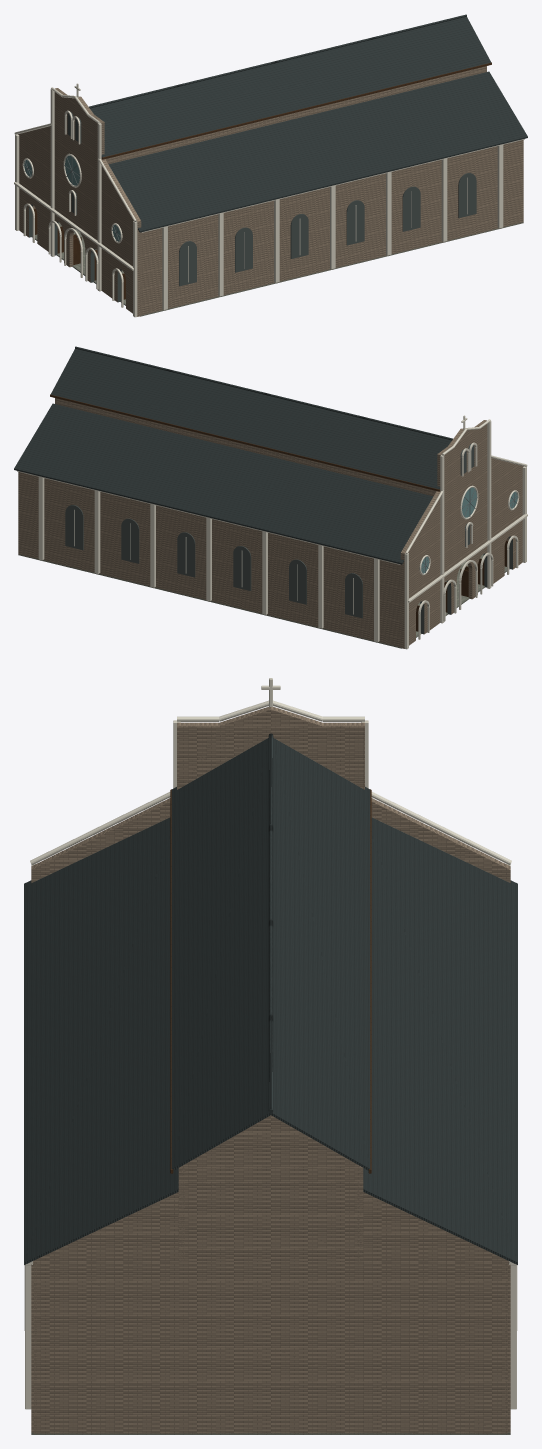
The model's file is landmark.glb.
The picture shows the model from 3 angles, top to bottom: view 1: azimuth 30°, elevation 25°; view 2: azimuth 150°, elevation 25°; view 3: azimuth 270°, elevation 25°; orthographic projection. The views are drawn at different scales.
Parts seen in each view (by area): view 1: Landmark_AisleRoof, Landmark_SideHollowWall_-1, Landmark_NaveRoof_S, Landmark_WestFacade, Landmark_UpperShell, Landmark_NaveRoof_EaveFascia, Landmark_NaveRoof_Ridge, Landmark_RoomFloor, Landmark_FacadePilaster.002, Landmark_SideWindow_Recess.003, Landmark_SideWindow_Recess.004, Landmark_SideWindow_Recess.005 (+15 smaller); view 2: Landmark_AisleRoof.001, Landmark_SideHollowWall_1, Landmark_NaveRoof_N, Landmark_WestFacade, Landmark_UpperShell.001, Landmark_NaveRoof_EaveFascia.001, Landmark_NaveRoof_Ridge, Landmark_RoomFloor, Landmark_FacadePilaster.001, Landmark_SideWindow_Recess.009, Landmark_SideWindow_Recess.010, Landmark_SideWindow_Recess.011 (+15 smaller); view 3: Landmark_BackHollowWall, Landmark_AisleRoof, Landmark_AisleRoof.001, Landmark_NaveRoof_N, Landmark_NaveRoof_S, Landmark_UpperBack, Landmark_WestFacade, Landmark_BackAisleGable, Landmark_BackAisleGable.001, Landmark_BackGable, Landmark_NaveRoof_Ridge, Landmark_SidePier.006 (+4 smaller).
Part boxes in pixels (x1,y1,x2,y2): Landmark_AisleRoof: (108,71,527,232); Landmark_SideHollowWall_-1: (140,140,523,315); Landmark_NaveRoof_S: (90,16,491,157); Landmark_WestFacade: (18,88,141,316); Landmark_UpperShell: (105,66,486,164); Landmark_NaveRoof_EaveFascia: (101,62,491,159); Landmark_NaveRoof_Ridge: (89,14,466,108); Landmark_RoomFloor: (32,222,523,316); Landmark_FacadePilaster.002: (50,89,54,256); Landmark_SideWindow_Recess.003: (346,200,364,245); Landmark_SideWindow_Recess.004: (402,186,420,231); Landmark_SideWindow_Recess.005: (458,173,476,217); Landmark_AisleRoof.001: (14,403,433,564); Landmark_SideHollowWall_1: (18,472,401,647); Landmark_NaveRoof_N: (50,348,451,489); Landmark_WestFacade: (400,420,523,648); Landmark_UpperShell.001: (56,398,436,496); Landmark_NaveRoof_EaveFascia.001: (50,394,440,491); Landmark_NaveRoof_Ridge: (75,346,452,440); Landmark_RoomFloor: (18,554,509,648); Landmark_FacadePilaster.001: (487,421,491,588); Landmark_SideWindow_Recess.009: (177,532,195,577); Landmark_SideWindow_Recess.010: (121,518,139,563); Landmark_SideWindow_Recess.011: (65,505,83,549); Landmark_BackHollowWall: (34,1262,507,1433); Landmark_AisleRoof: (24,817,178,1264); Landmark_AisleRoof.001: (363,817,517,1264); Landmark_NaveRoof_N: (271,738,370,1170); Landmark_NaveRoof_S: (171,738,270,1170); Landmark_UpperBack: (178,1168,363,1261); Landmark_WestFacade: (31,706,510,882); Landmark_BackAisleGable: (33,1192,178,1261); Landmark_BackAisleGable.001: (363,1192,508,1261); Landmark_BackGable: (179,1115,362,1168); Landmark_NaveRoof_Ridge: (268,733,273,1113); Landmark_SidePier.006: (25,1265,31,1409).
Size of the model in its own units: 49.48 by 22.7 by 26.8.
8 materials, 4 textured.
